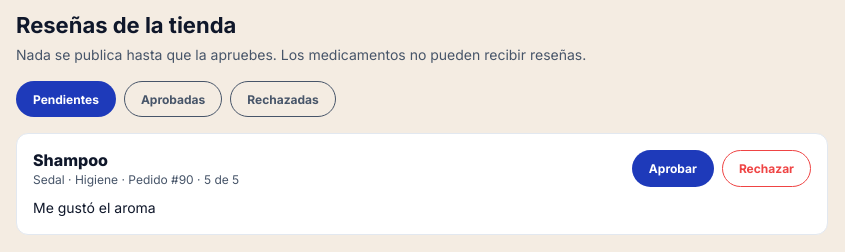
Test: la lista pendiente muestra el producto y se puede aprobar
Expected: the text "Shampoo" is shown, [33,150,108,170]
Expected: the text "Me gustó el aroma" is shown, [33,199,156,216]
Click the button "Aprobar": (673, 168) [632,150,714,187]
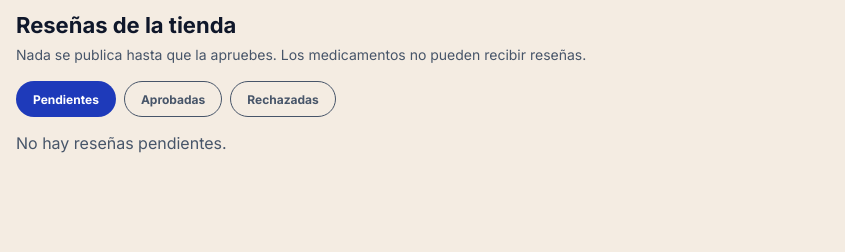
Result: the text "Shampoo" is gone
